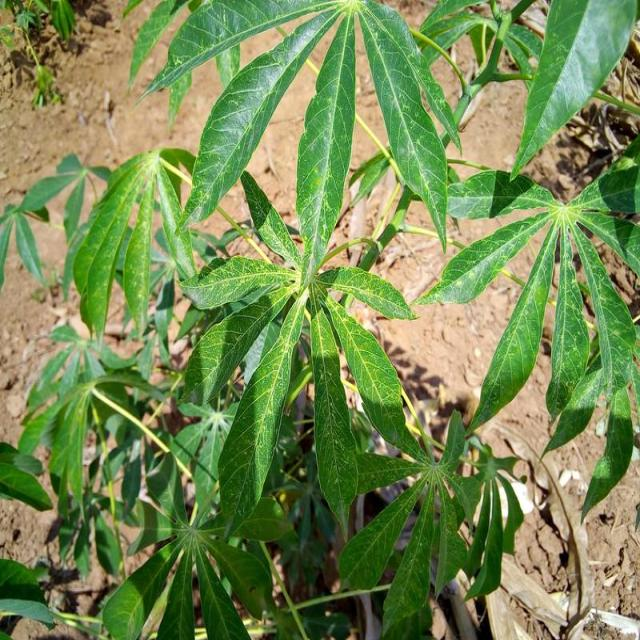cassava leaf: (10, 1, 638, 637), (356, 0, 450, 253), (508, 0, 637, 181)
